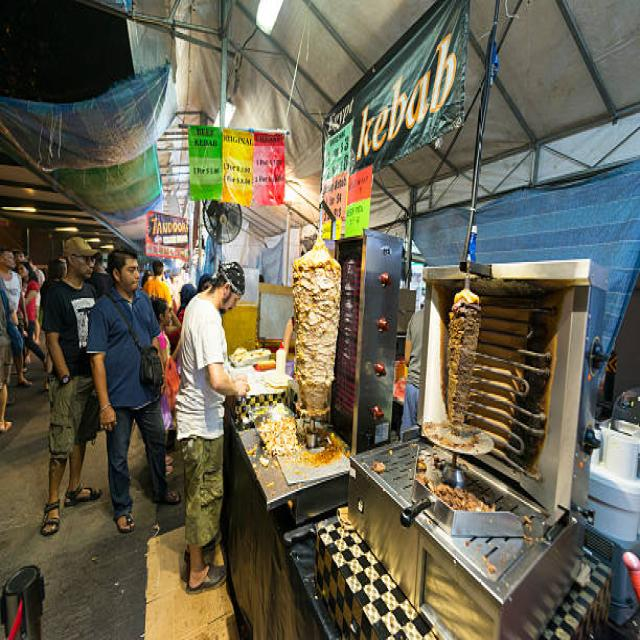Emperan: (153, 167, 628, 640)
